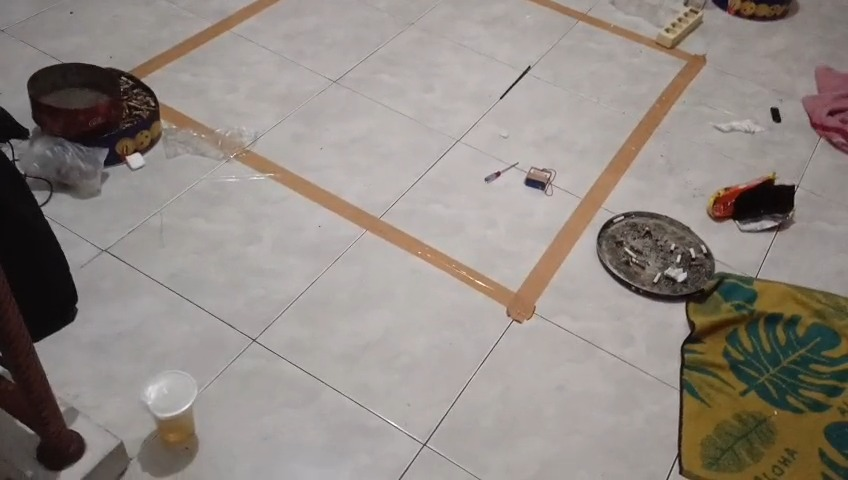floor marking: (236, 0, 705, 322), (133, 0, 278, 77), (161, 103, 214, 132)
